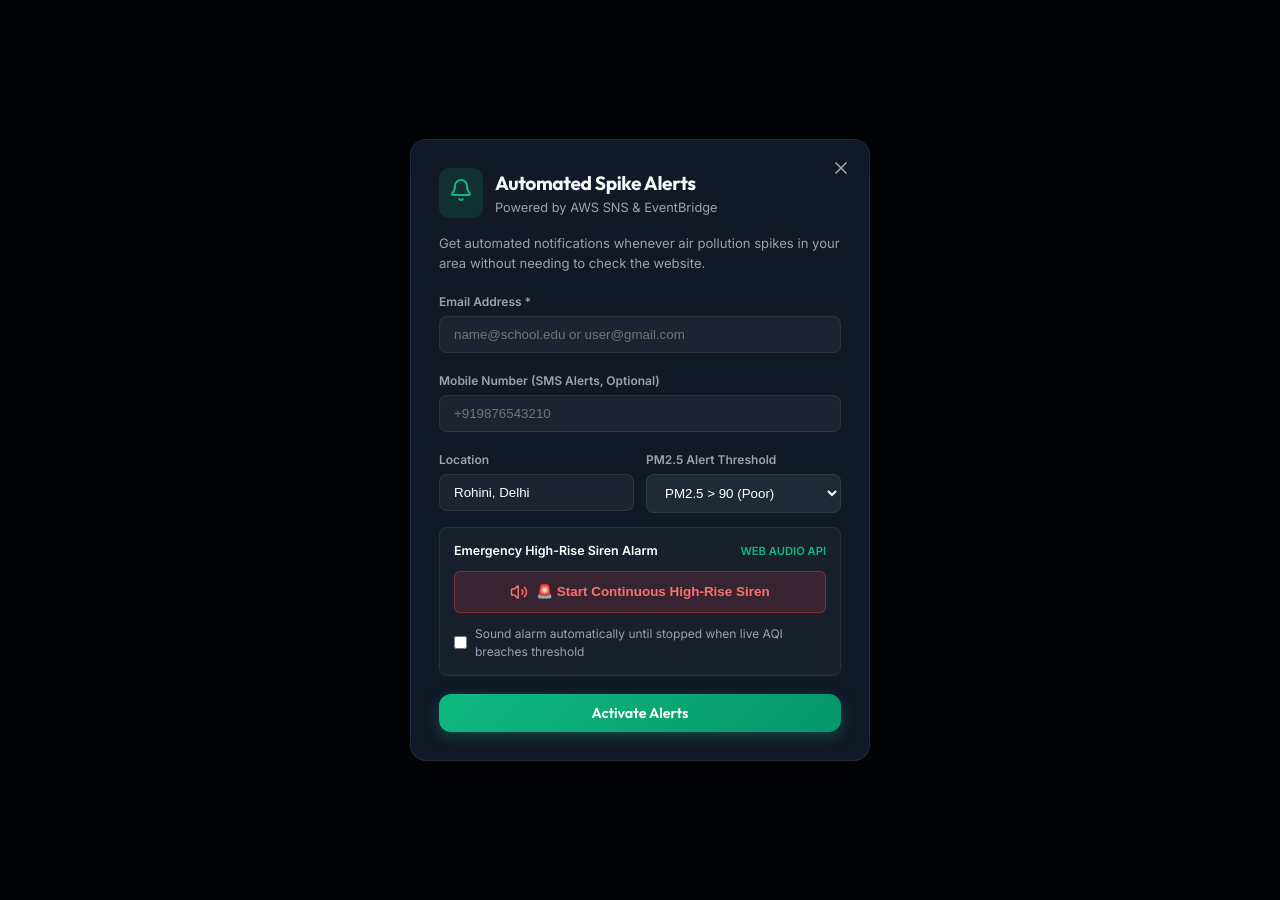
Test: AlertModal Component › submits subscription payload to backend API and displays success message
In the field with placeholder "name@school.edu or user@gmail.com": [640, 334] box [439,316,841,353], type "test@school.edu"
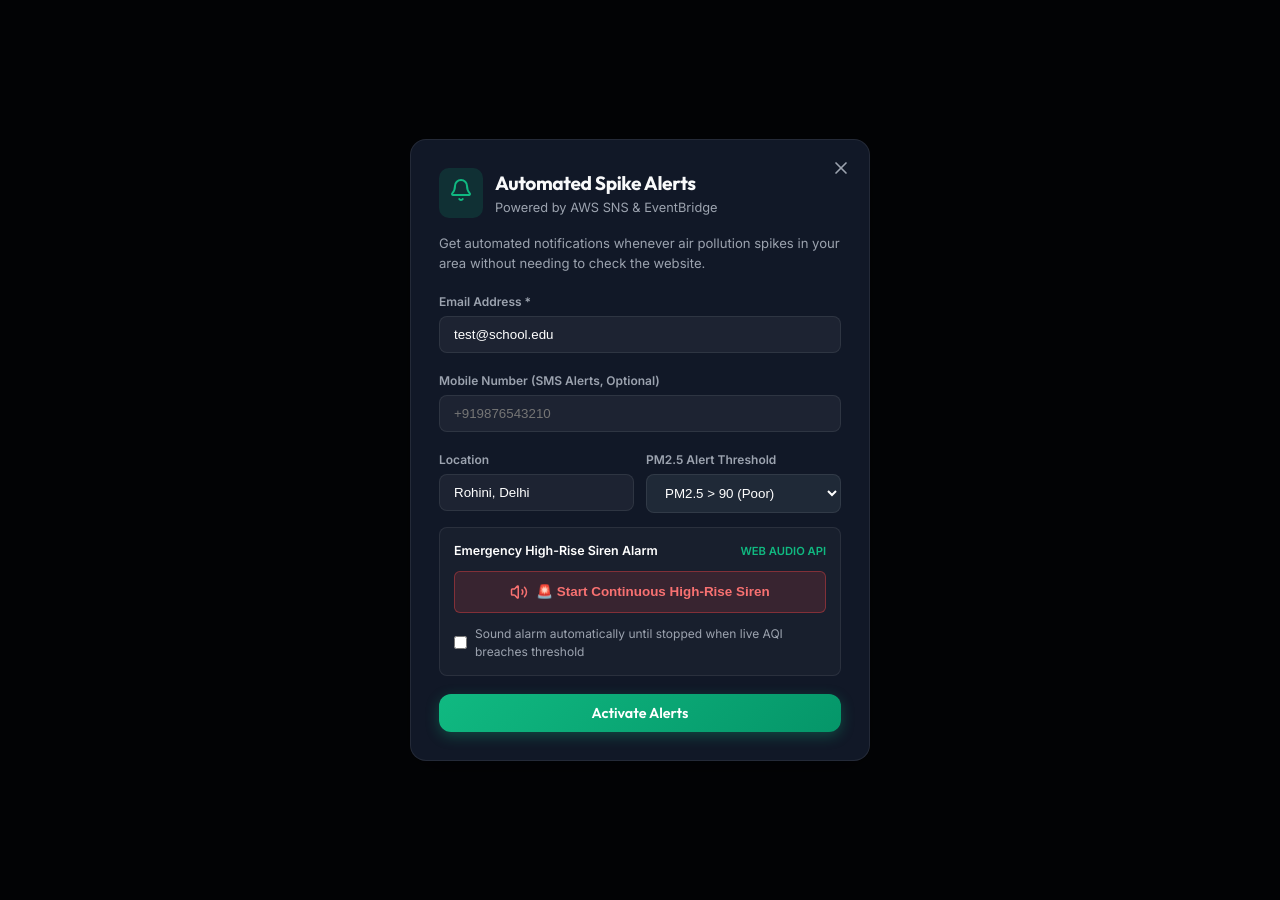
Click the button "Activate Alerts": [640, 712] box [439,694,841,732]
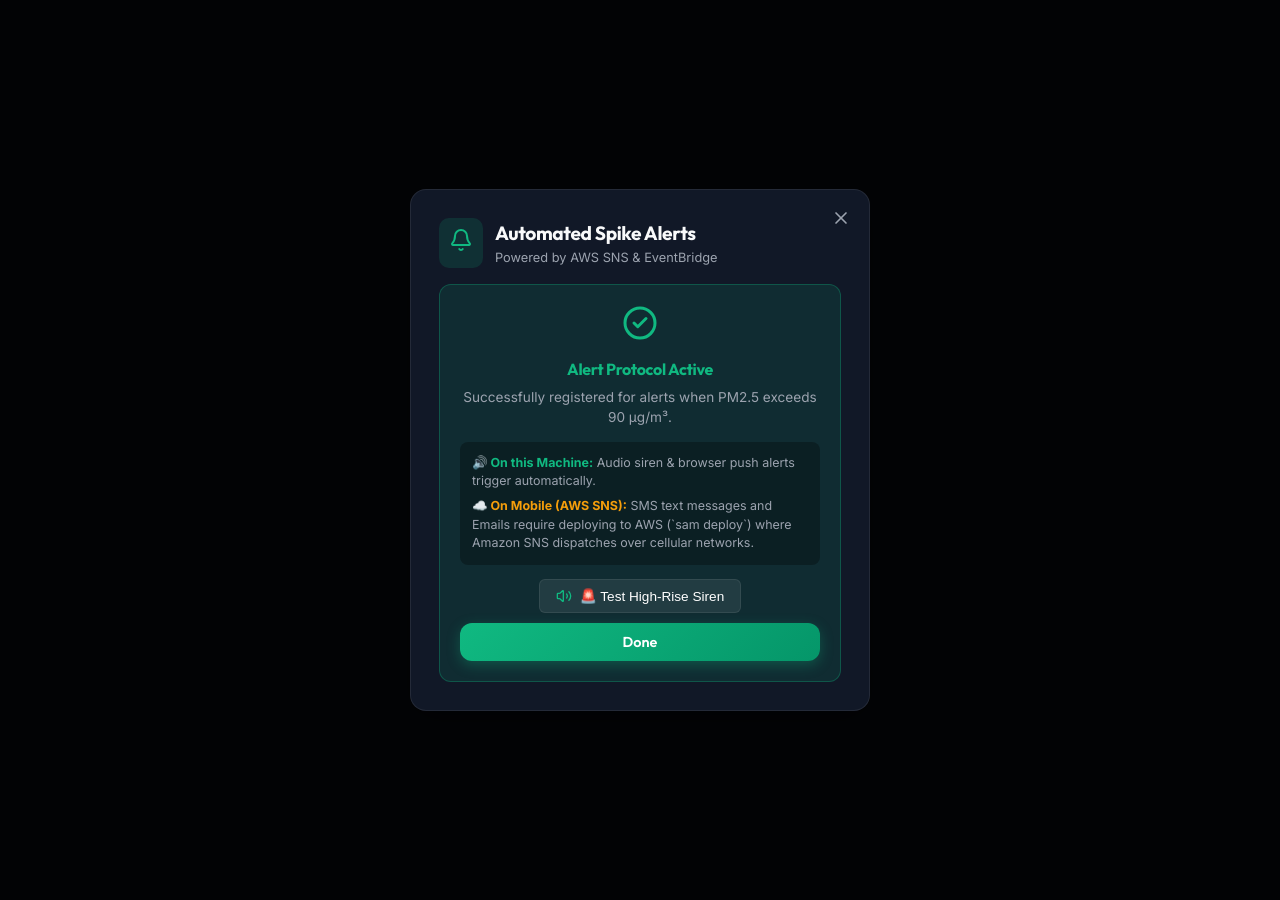
Now the text "Successfully registered for alerts" is shown, box [463,389,817,425]
